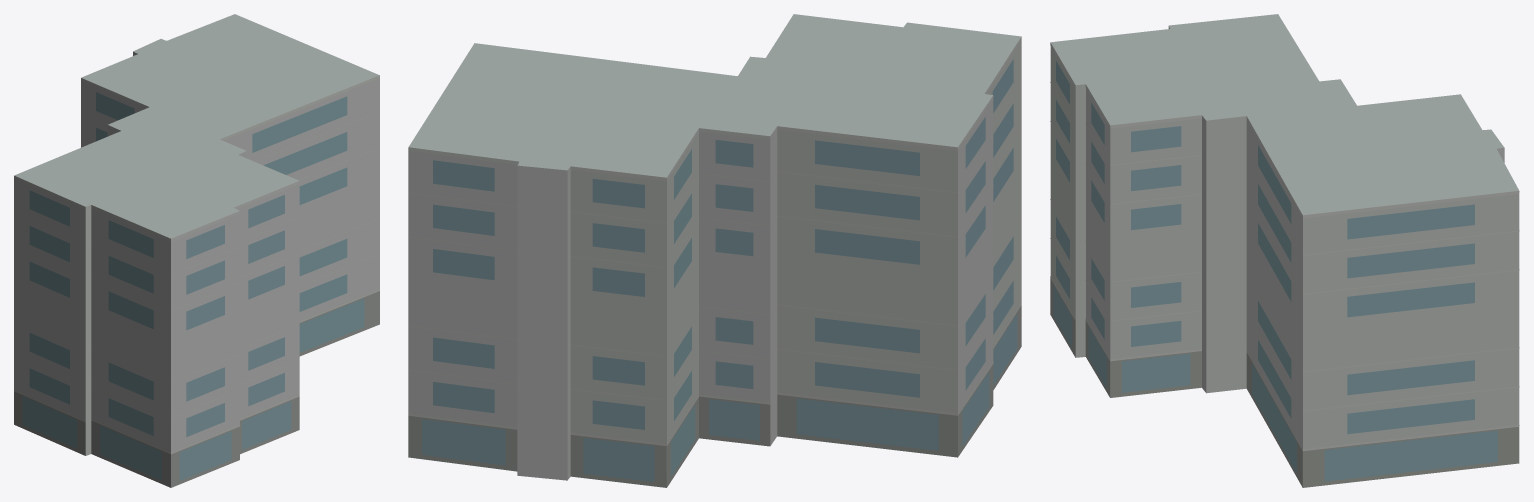
Rendered from survey-upis-32717780.glb.
3 renders of one model, left to right at view 1: azimuth 30°, elevation 25°; view 2: azimuth 150°, elevation 25°; view 3: azimuth 270°, elevation 25°, orthographic. The views are drawn at different scales.
Parts seen in each view (by area): view 1: survey-upis-32717780.tmp; view 2: survey-upis-32717780.tmp; view 3: survey-upis-32717780.tmp.
Boxes of the visible parts, bbox=[...] form: survey-upis-32717780.tmp: bbox=[14, 14, 379, 487]; survey-upis-32717780.tmp: bbox=[408, 14, 1021, 487]; survey-upis-32717780.tmp: bbox=[1050, 14, 1519, 487].
Size of the model in its own units: 31.53 by 19.9 by 31.05.
